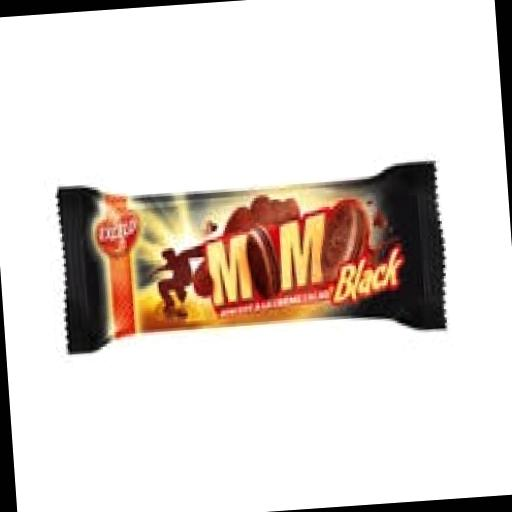MOMO: (44, 115, 476, 380)
